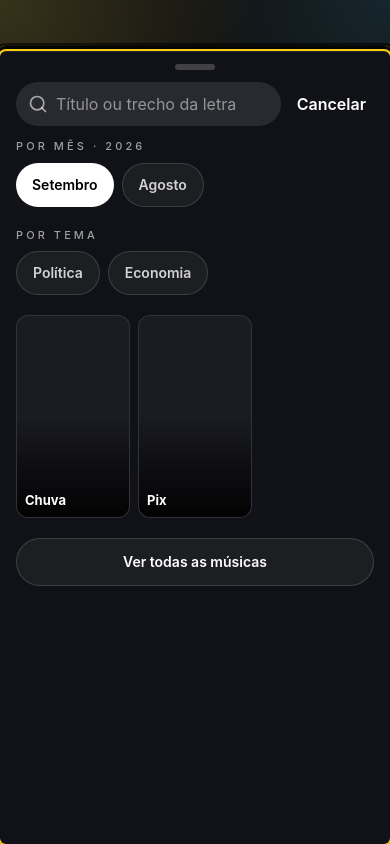
Test: SearchSheet (étape 10) › typing searches the whole catalogue (title, lyrics, subtitle) and hides the filters until cleared
Type "cafe" into the search field.
click(148, 104); type("cafe")  # box [16,82,281,126]
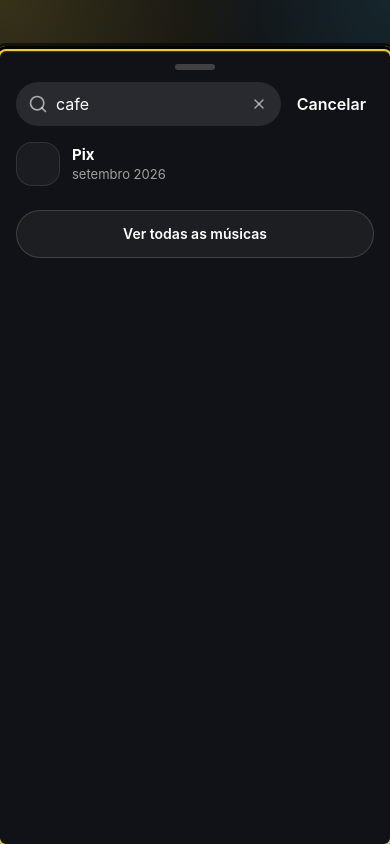
Check: the heading "Por mês" is gone
Check: the heading "Por tema" is gone
Replace the text in the search field with "fogos" at (148, 104), box [16,82,281,126]
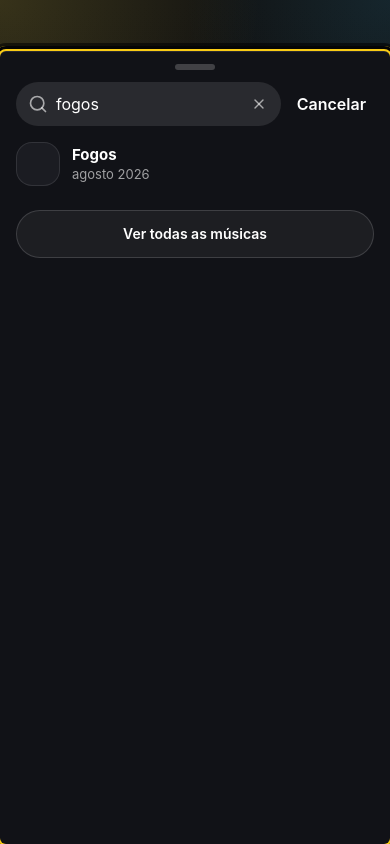
Replace the text in the search field with "zzz" at (148, 104), box [16,82,281,126]
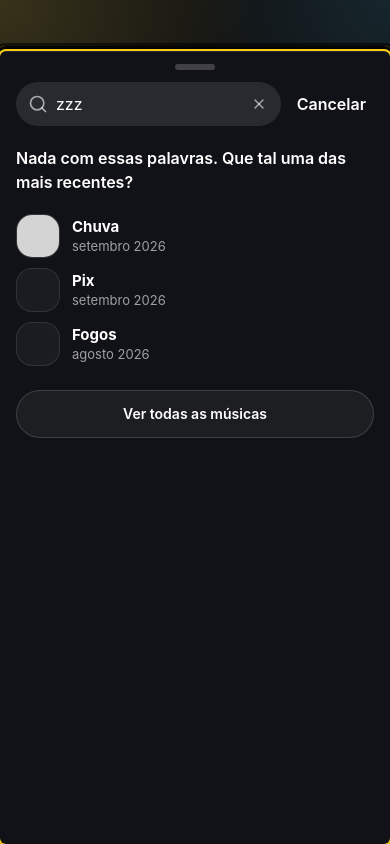
Check: the text "Nada com essas palavras. Que tal uma das mais recentes?" is shown, box [16,138,374,210]
Click the button named "Limpar a busca".
click(259, 104)  # box [237,82,281,126]
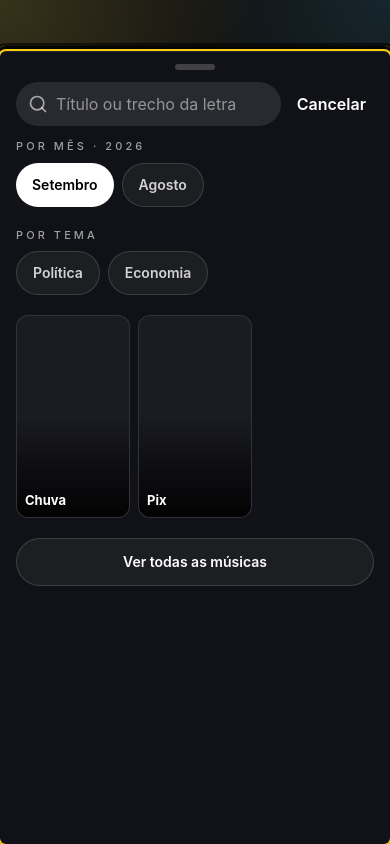
Check: the heading "Por mês · 2026" is shown, box [16,139,145,153]
